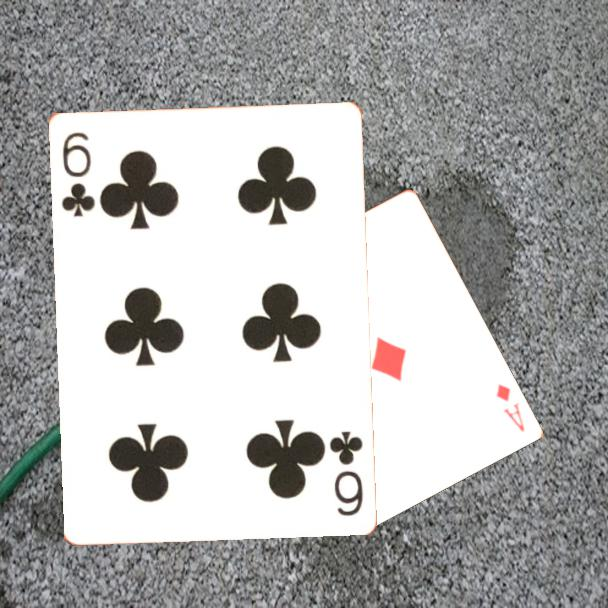c06: (326, 427, 365, 519), (58, 128, 97, 219)
d01: (492, 380, 527, 435)
